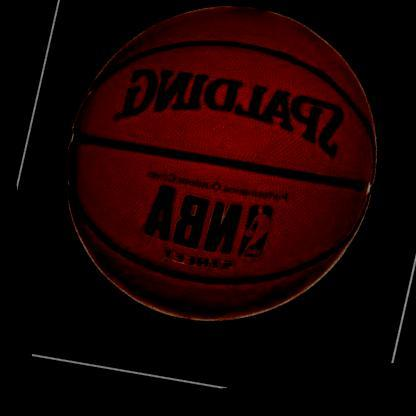basketball: (7, 0, 416, 392)
